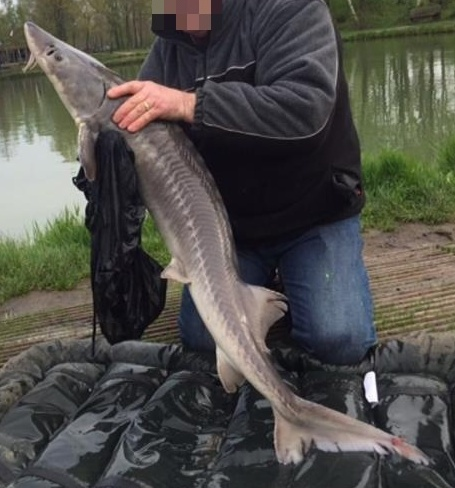Acipenseridae: (20, 20, 435, 468)
